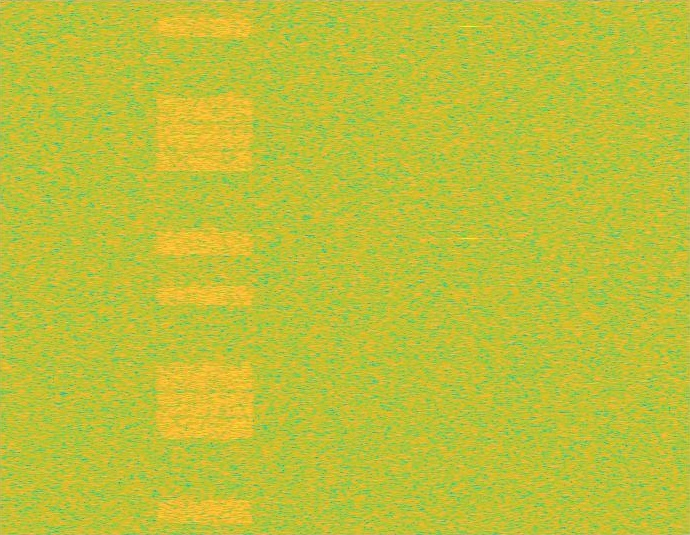LTE: (153, 0, 257, 534)
Radar: (462, 0, 475, 534)
